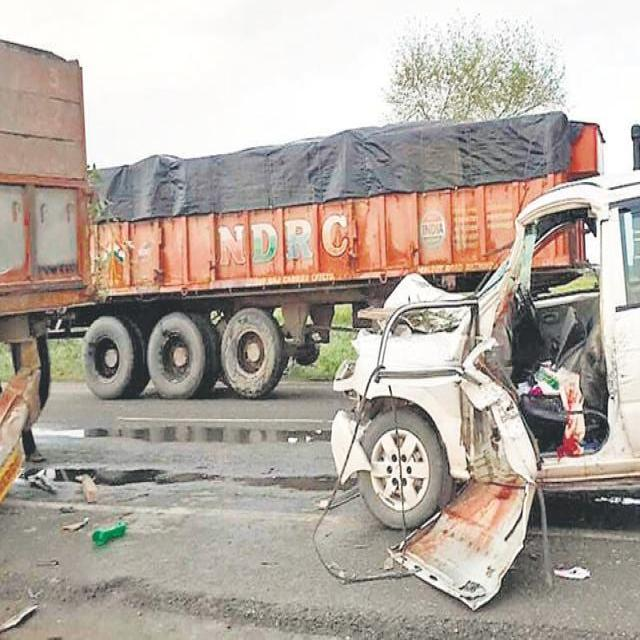accident: (331, 171, 640, 609)
truck: (52, 112, 601, 399)
